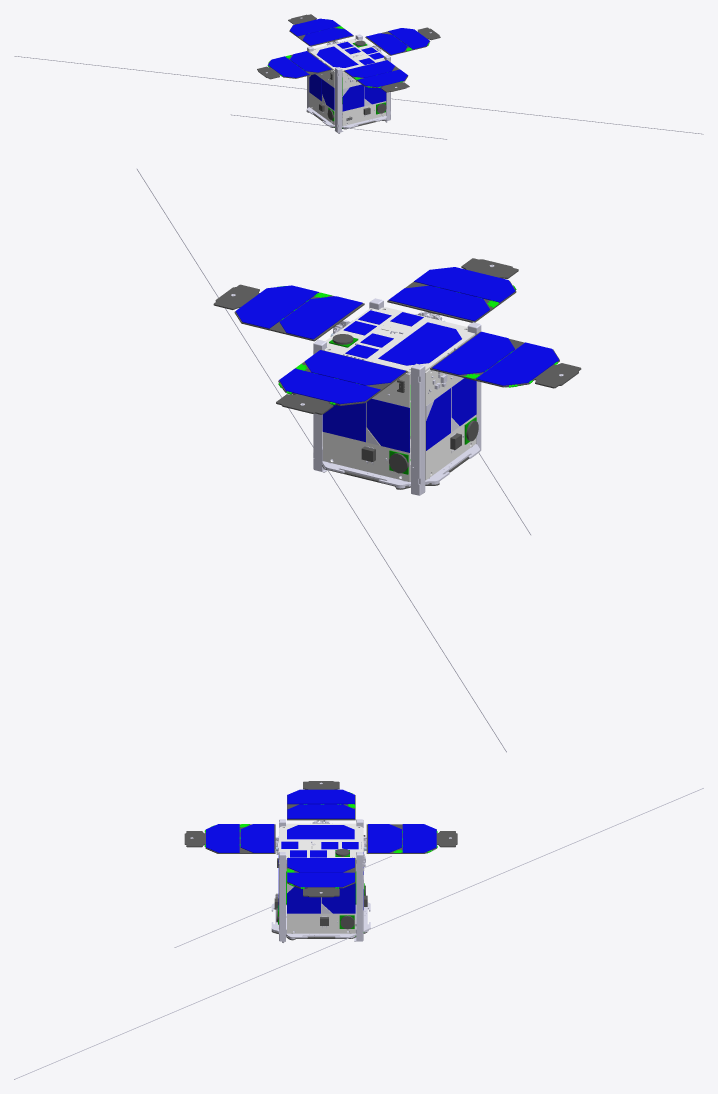
Rendered from MOVE-II.glb.
The picture shows the model from 3 angles, top to bottom: view 1: azimuth 30°, elevation 25°; view 2: azimuth 150°, elevation 25°; view 3: azimuth 270°, elevation 25°; orthographic projection. The views are drawn at different scales.
Parts seen in each view (by area): view 1: HybridBody.1 (×16), 1\MANIFOLD_SOLID_BREP #314 (×2), 133\126\125\MANIFOLD_SOLID_BREP #14078 (×2), 1\Hauptkörper, 133\132\131\MANIFOLD_SOLID_BREP #15116 (×2), 57\56\55\MANIFOLD_SOLID_BREP #7348; view 2: HybridBody.1 (×14), 1\MANIFOLD_SOLID_BREP #314 (×2), 133\132\131\MANIFOLD_SOLID_BREP #15116 (×2), 1\Hauptkörper, 133\126\125\MANIFOLD_SOLID_BREP #14078 (×2), 57\56\55\MANIFOLD_SOLID_BREP #7348; view 3: HybridBody.1 (×17), 1\Hauptkörper, 1\MANIFOLD_SOLID_BREP #314, 57\56\55\MANIFOLD_SOLID_BREP #7348, 133\132\131\MANIFOLD_SOLID_BREP #15116, 133\126\125\MANIFOLD_SOLID_BREP #14078.
Part boxes in pixels (left/top/right/bottom): HybridBody.1 (×16): left=14, top=14, right=703, bottom=134; 1\MANIFOLD_SOLID_BREP #314 (×2): left=309, top=70, right=385, bottom=125; 133\126\125\MANIFOLD_SOLID_BREP #14078 (×2): left=309, top=74, right=364, bottom=111; 1\Hauptkörper: left=310, top=38, right=385, bottom=71; 133\132\131\MANIFOLD_SOLID_BREP #15116 (×2): left=322, top=79, right=386, bottom=110; 57\56\55\MANIFOLD_SOLID_BREP #7348: left=316, top=46, right=358, bottom=67; HybridBody.1 (×14): left=213, top=258, right=581, bottom=495; 1\MANIFOLD_SOLID_BREP #314 (×2): left=323, top=369, right=476, bottom=481; 133\132\131\MANIFOLD_SOLID_BREP #15116 (×2): left=366, top=378, right=476, bottom=452; 1\Hauptkörper: left=324, top=307, right=475, bottom=373; 133\126\125\MANIFOLD_SOLID_BREP #14078 (×2): left=322, top=388, right=450, bottom=450; 57\56\55\MANIFOLD_SOLID_BREP #7348: left=378, top=322, right=461, bottom=365; HybridBody.1 (×17): left=14, top=781, right=703, bottom=1079; 1\Hauptkörper: left=280, top=823, right=362, bottom=859; 1\MANIFOLD_SOLID_BREP #314: left=287, top=886, right=355, bottom=933; 57\56\55\MANIFOLD_SOLID_BREP #7348: left=287, top=825, right=354, bottom=839; 133\132\131\MANIFOLD_SOLID_BREP #15116: left=321, top=883, right=355, bottom=913; 133\126\125\MANIFOLD_SOLID_BREP #14078: left=287, top=886, right=320, bottom=913.
Size of the model in its own units: 0.8154 by 0.1179 by 0.8154.
